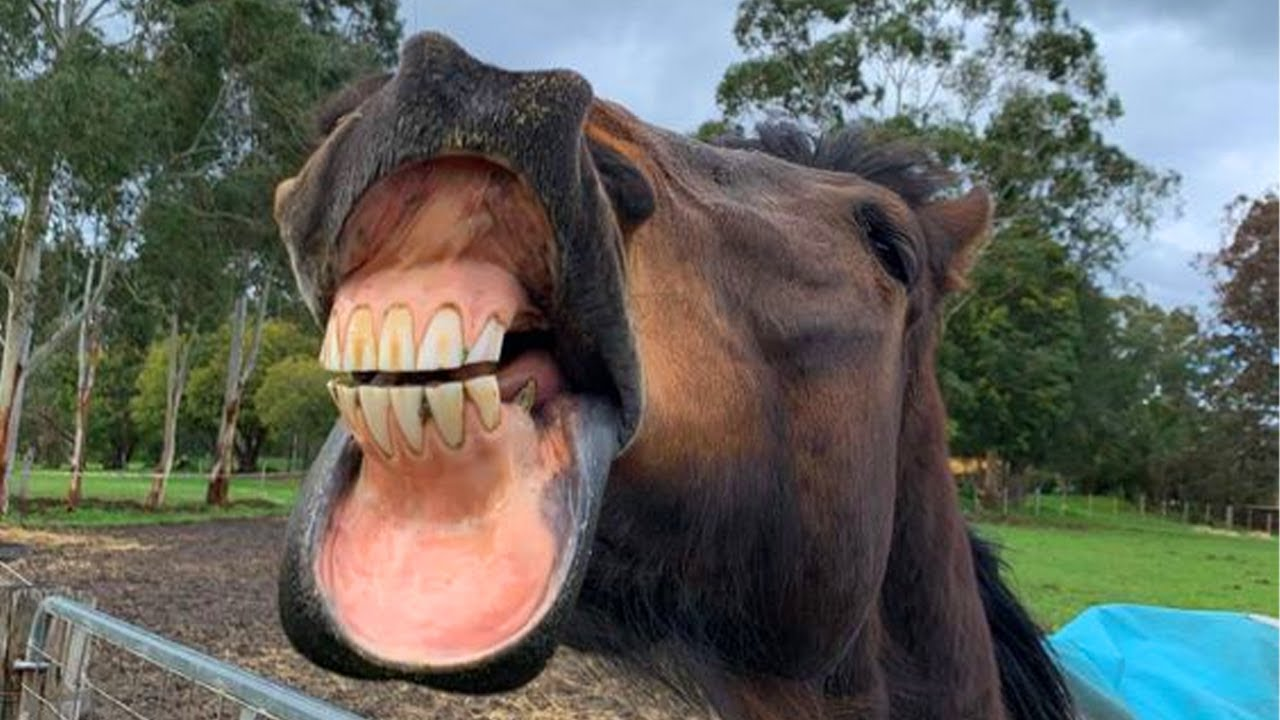Horse: (192, 47, 1121, 720)
